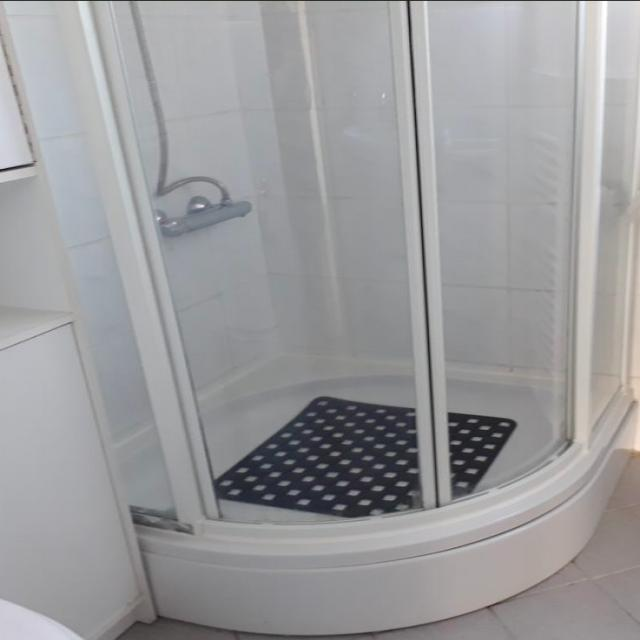douche: (3, 0, 640, 637)
toilet: (0, 599, 85, 640)
